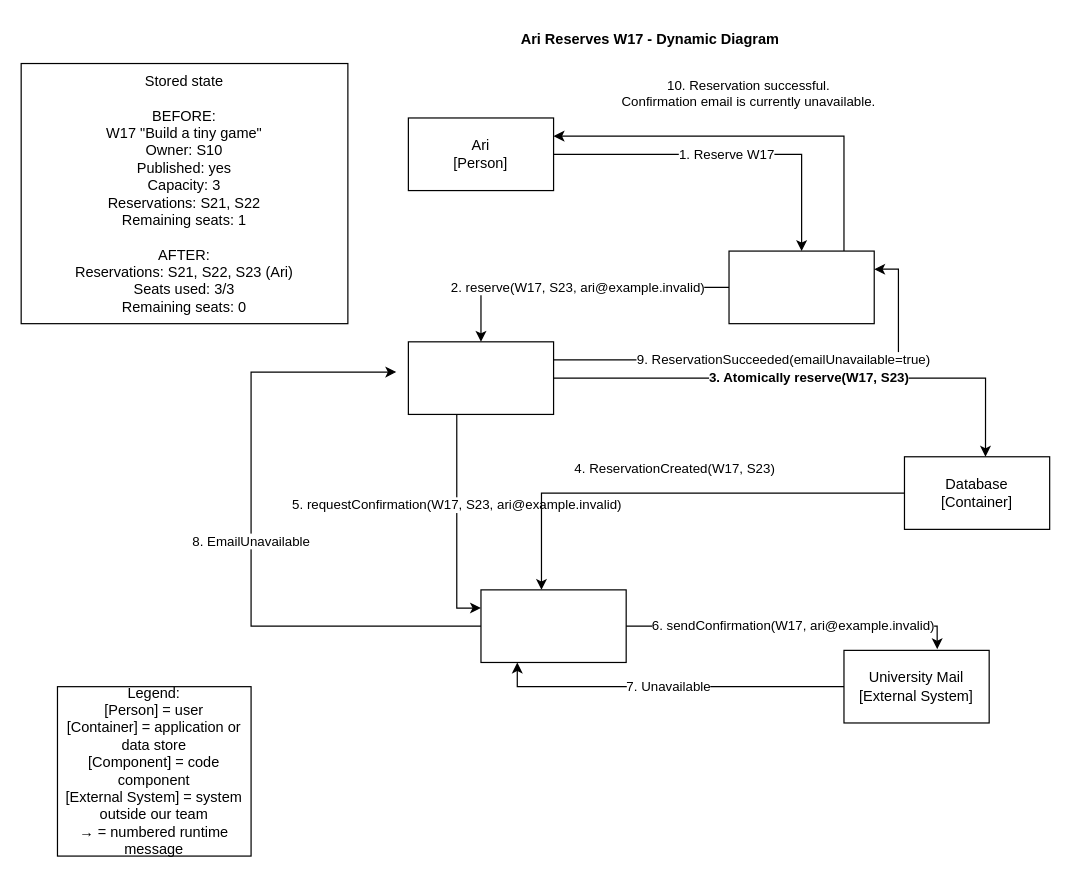
This 1071x878 diagram has some shape labels left out. The shapes that lost their labels are listed below. From the top down, each one's centre as x and y in pixels, then its label:
At [801,287]: "Web Application [Container]".
At [480,377]: "Reservation Component [Component]".
At [553,625]: "Confirmation Component [Component]".
